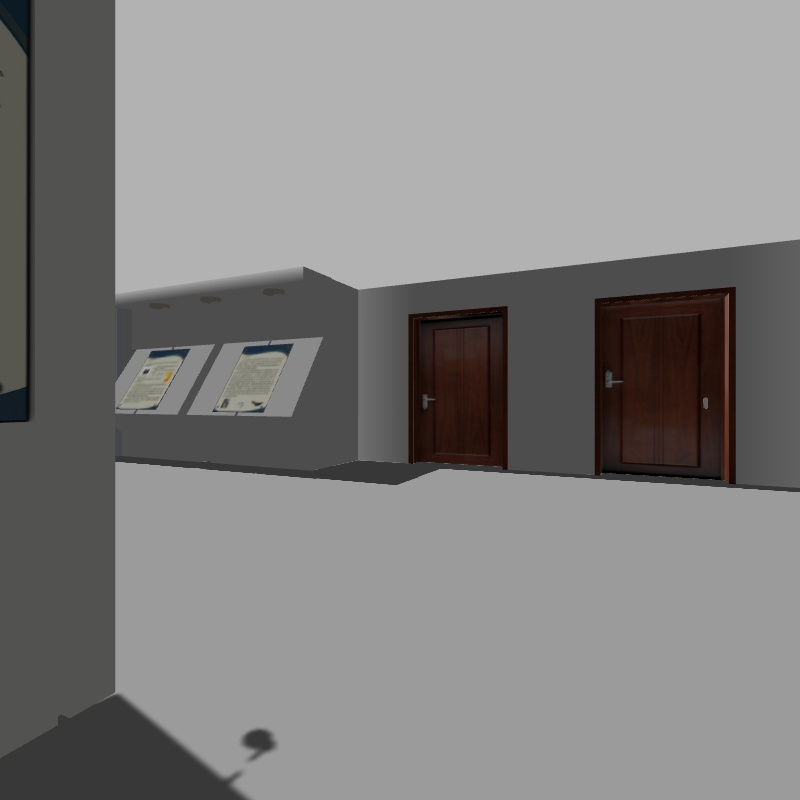handle: (601, 365, 628, 393), (416, 388, 439, 415)
